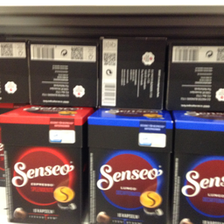coffee: (1, 107, 88, 224), (87, 108, 174, 224), (170, 108, 223, 224)
